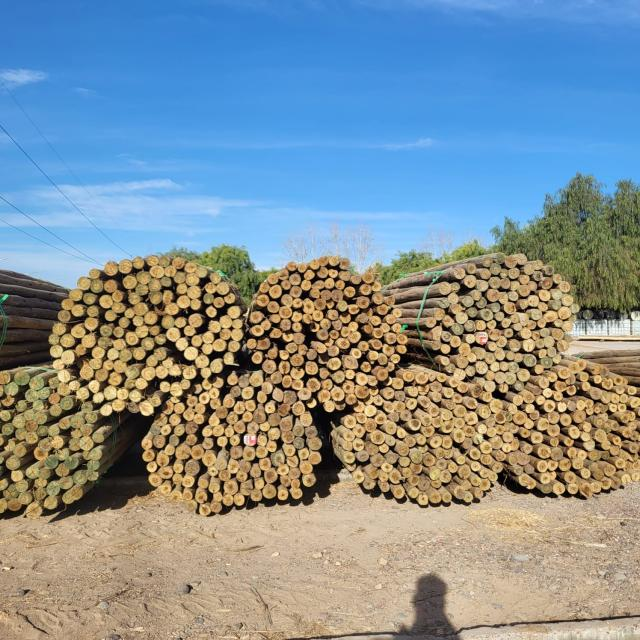package: (50, 256, 244, 416), (247, 255, 410, 413), (143, 374, 324, 515), (336, 372, 513, 508), (420, 253, 579, 384), (509, 359, 639, 495), (3, 368, 101, 514)
